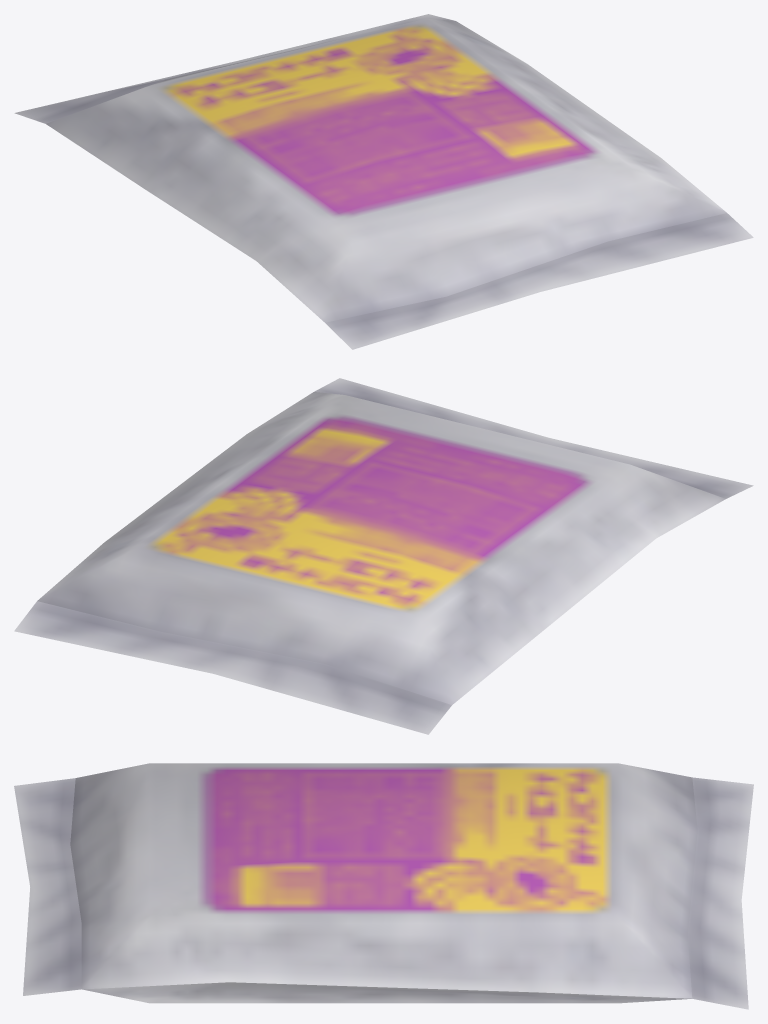
The model's file is jsf_Bagging_Chocolate_06.fbx.
The picture shows the model from 3 angles, top to bottom: view 1: azimuth 30°, elevation 25°; view 2: azimuth 150°, elevation 25°; view 3: azimuth 270°, elevation 25°; orthographic projection. The views are drawn at different scales.
Visible parts, largest first — view 1: jsf_Bagging_Chocolate_06; view 2: jsf_Bagging_Chocolate_06; view 3: jsf_Bagging_Chocolate_06.
Boxes of the visible parts, left/top/right/bottom form: jsf_Bagging_Chocolate_06: left=14, top=14, right=753, bottom=349; jsf_Bagging_Chocolate_06: left=14, top=378, right=753, bottom=734; jsf_Bagging_Chocolate_06: left=14, top=763, right=753, bottom=1009.
Size of the model in its own units: 21.61 by 4.3 by 29.63.
